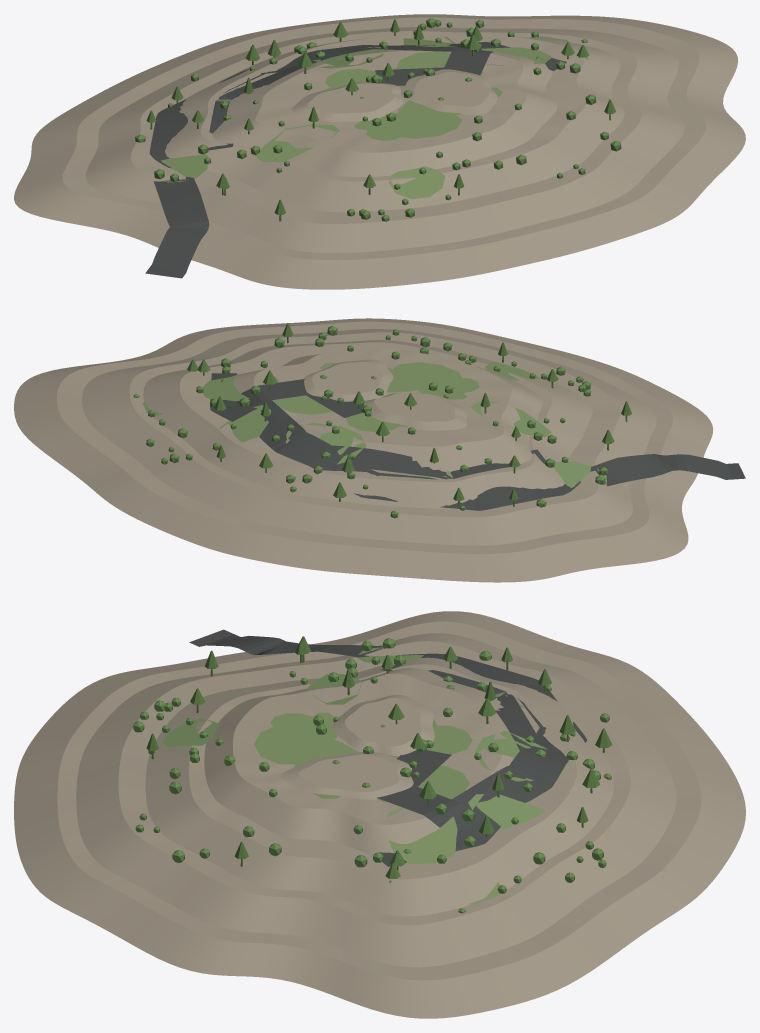
The model's file is restoration.glb.
The picture shows the model from 3 angles, top to bottom: view 1: azimuth 30°, elevation 25°; view 2: azimuth 150°, elevation 25°; view 3: azimuth 270°, elevation 25°; orthographic projection. The views are drawn at different scales.
Parts seen in each view (by area): view 1: RestorationSlope01, RestorationSlope02, RestorationSlope03, RestorationBench01, RestorationBench02, RestorationSlope04, VegetationPatches, RestorationHaulRoad, RestorationBench03, RestorationBench04, Shrubs, WorkingCellEast.002 (+4 smaller); view 2: RestorationSlope01, RestorationSlope02, RestorationSlope03, RestorationBench01, RestorationBench02, RestorationHaulRoad, VegetationPatches, RestorationBench03, RestorationSlope04, RestorationBench04, Shrubs, RestorationBenchRoad (+4 smaller); view 3: RestorationSlope01, RestorationSlope02, RestorationSlope03, RestorationBench01, RestorationBench02, VegetationPatches, RestorationSlope04, RestorationBench03, RestorationHaulRoad, RestorationBench04, Shrubs, WorkingCellEast.002 (+4 smaller).
Boxes of the visible parts, x1=… form: RestorationSlope01: x1=14, y1=14, x2=745, y2=289; RestorationSlope02: x1=85, y1=27, x2=684, y2=253; RestorationSlope03: x1=165, y1=37, x2=624, y2=212; RestorationBench01: x1=62, y1=17, x2=706, y2=259; RestorationBench02: x1=131, y1=31, x2=641, y2=223; RestorationSlope04: x1=212, y1=49, x2=557, y2=176; VegetationPatches: x1=157, y1=36, x2=569, y2=199; RestorationHaulRoad: x1=145, y1=45, x2=493, y2=278; RestorationBench03: x1=200, y1=35, x2=586, y2=181; RestorationBench04: x1=255, y1=50, x2=526, y2=152; Shrubs: x1=135, y1=18, x2=621, y2=221; WorkingCellEast.002: x1=400, y1=69, x2=497, y2=115; RestorationSlope01: x1=14, y1=318, x2=713, y2=582; RestorationSlope02: x1=82, y1=329, x2=656, y2=545; RestorationSlope03: x1=143, y1=340, x2=592, y2=509; RestorationBench01: x1=57, y1=321, x2=672, y2=554; RestorationBench02: x1=129, y1=332, x2=621, y2=517; RestorationHaulRoad: x1=235, y1=379, x2=745, y2=510; VegetationPatches: x1=142, y1=362, x2=606, y2=487; RestorationBench03: x1=180, y1=342, x2=551, y2=482; RestorationSlope04: x1=232, y1=354, x2=542, y2=472; RestorationBench04: x1=254, y1=349, x2=511, y2=446; Shrubs: x1=133, y1=325, x2=607, y2=518; RestorationBenchRoad: x1=210, y1=373, x2=545, y2=479; RestorationSlope01: x1=14, y1=611, x2=745, y2=1018; RestorationSlope02: x1=76, y1=633, x2=676, y2=967; RestorationSlope03: x1=145, y1=657, x2=613, y2=916; RestorationBench01: x1=57, y1=621, x2=701, y2=980; RestorationBench02: x1=118, y1=641, x2=630, y2=925; VegetationPatches: x1=162, y1=647, x2=564, y2=904; RestorationSlope04: x1=204, y1=668, x2=513, y2=855; RestorationBench03: x1=189, y1=664, x2=576, y2=879; RestorationHaulRoad: x1=189, y1=629, x2=586, y2=829; RestorationBench04: x1=233, y1=673, x2=503, y2=824; Shrubs: x1=133, y1=638, x2=611, y2=913; WorkingCellEast.002: x1=281, y1=752, x2=413, y2=799.
Bounding box in the file's own units: 116 × 11.9 × 88.
